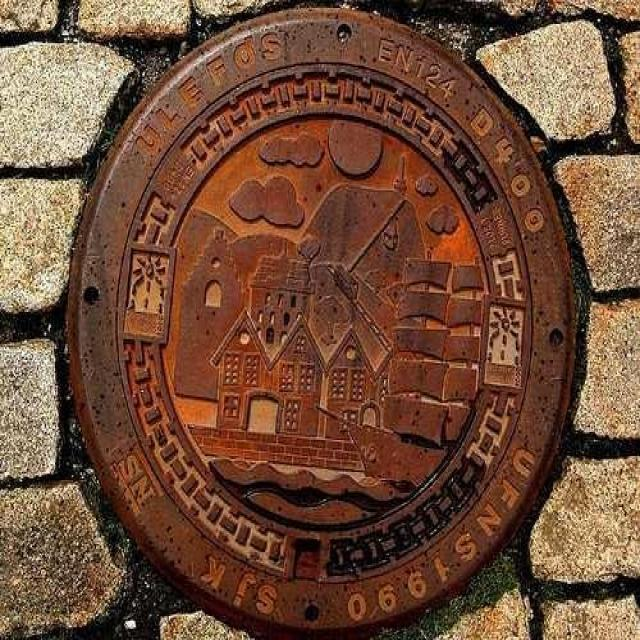manhole: (63, 8, 593, 637)
